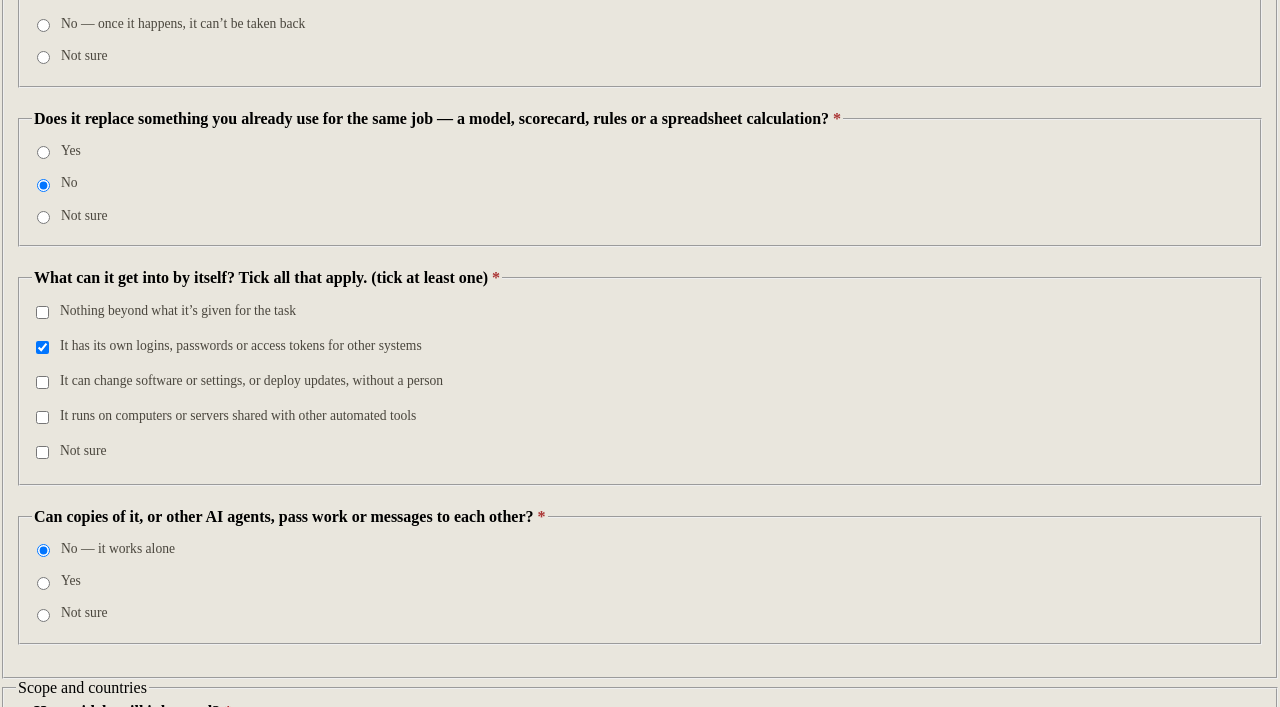
StructuredForm — conditional follow-ups (§2.2 Details) › TC-R16-F-62: unticking every Q13 box shows no alert — it is simply not answered yet
(page scrolled)
Click the checkbox labelled "its own logins, passwords or access tokens" at (42, 347), box top-left (36, 341), bottom-right (49, 354)
(page scrolled)
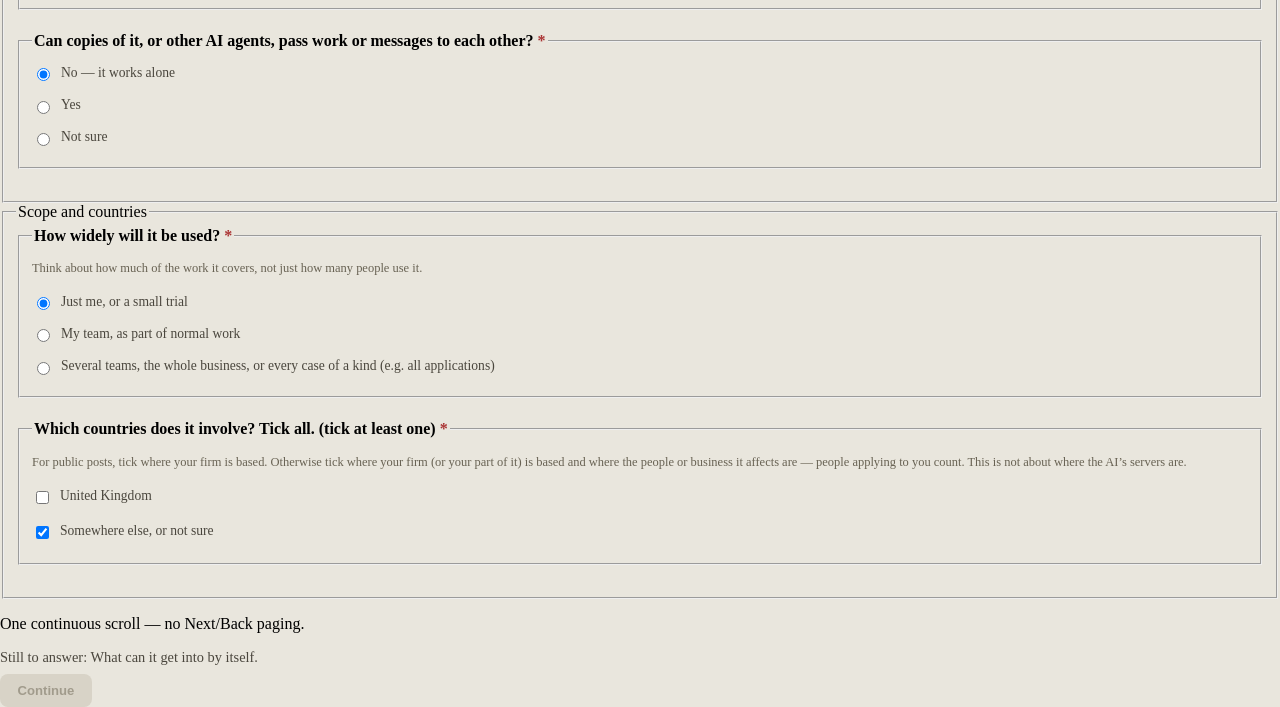
Check: the message is not shown
Check: the button "Continue" is disabled, box top-left (0, 674), bottom-right (92, 706)
